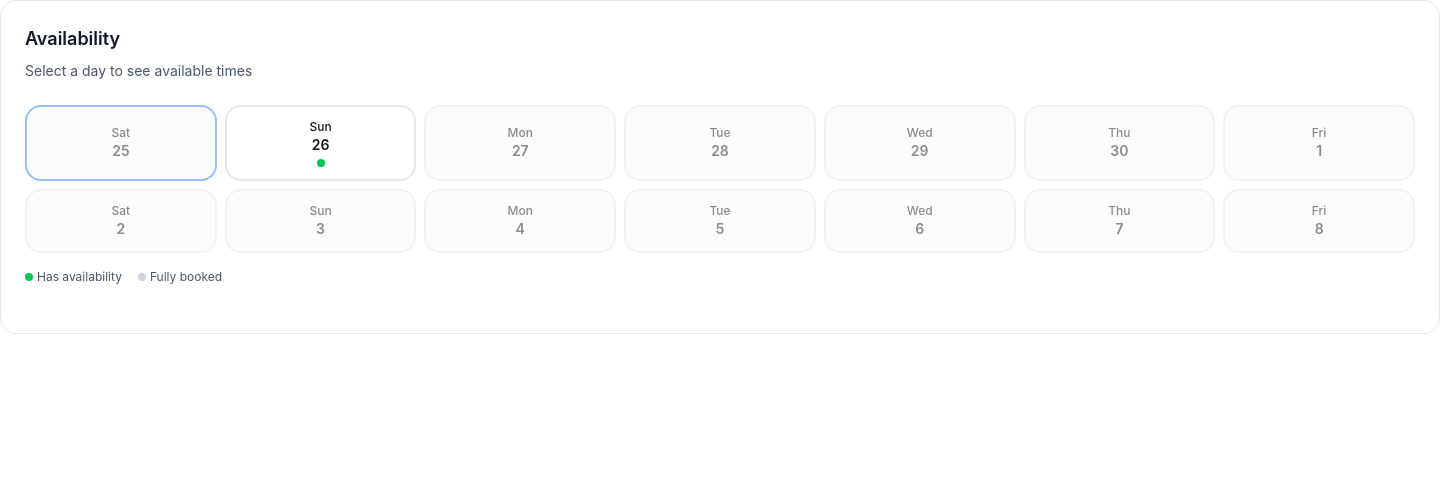
Test: AvailabilityCalendar › formatTime edge cases › formats midnight (00:00) correctly as 12:00AM
This screenshot has width=1440, height=492.
Click the button "Sun 26" at (321, 143), box [225,105,416,181]
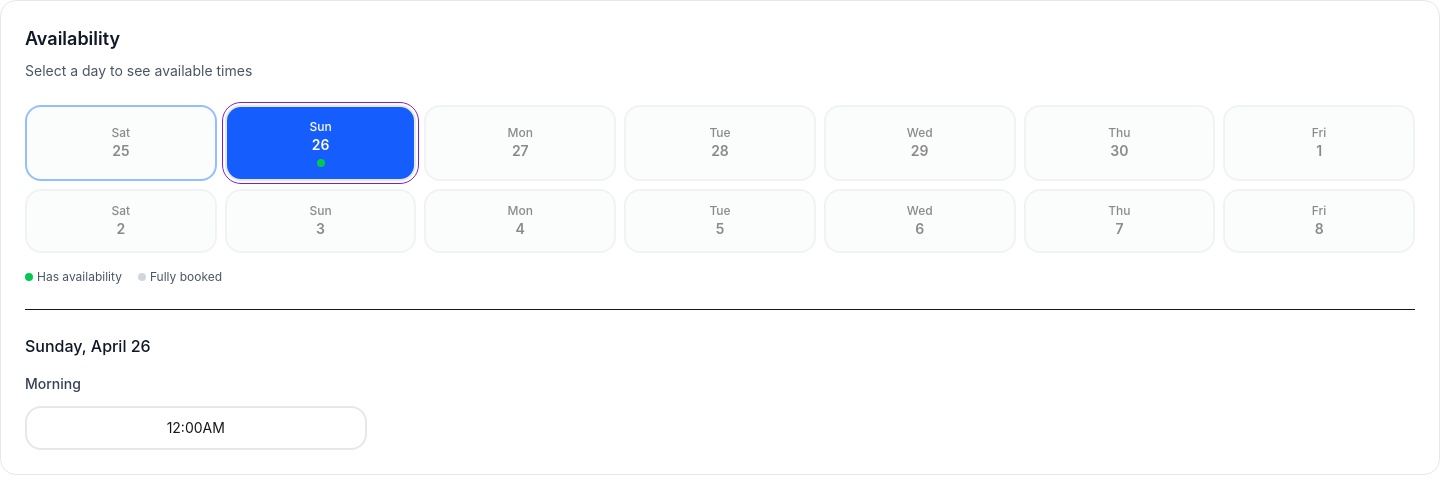
Check: the button "12:00AM" is shown, box [25,406,366,450]
